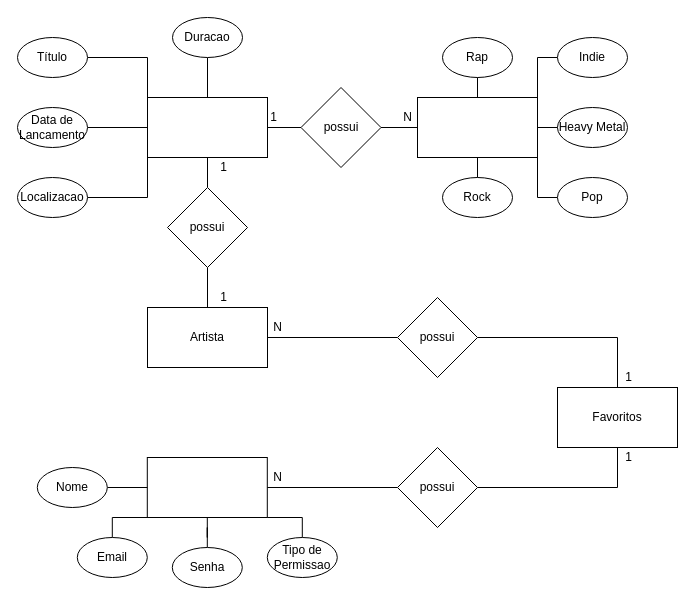
Image size: 695x605. Some labels were removed from this diagram. Each missing label, with the centre of its shape:
"Album" goes at (x=207, y=127).
"Estilos" goes at (x=477, y=127).
"Usuarios" goes at (x=206, y=487).
